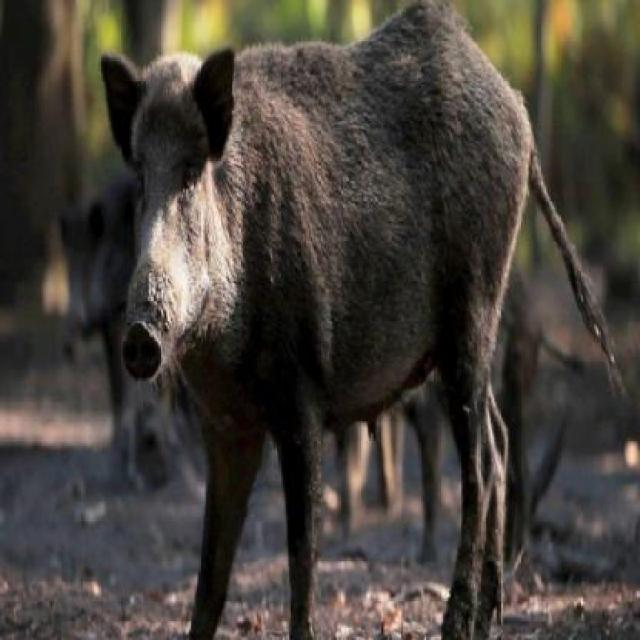wildboar: (125, 0, 628, 640), (58, 151, 160, 423)
